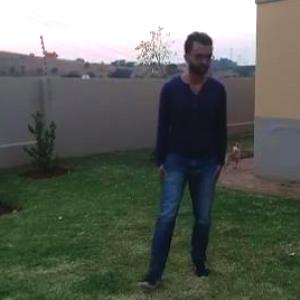follow: (138, 23, 230, 296)
